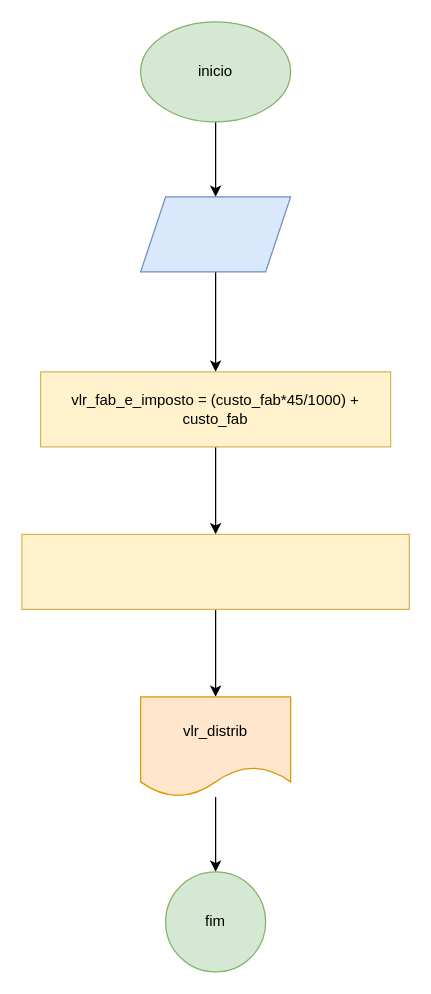
The diagram is 431 pixels wide and 994 high, and some of its shapes have lost their labels. Here are the shapes that lost their labels. From the top down, the box of each, then its label:
(139, 196, 291, 272): custo_fab
(21, 533, 409, 609): vlr_distrib = (vlr_fab_e_imposto*28/100) + vlr_fab_e_imposto
